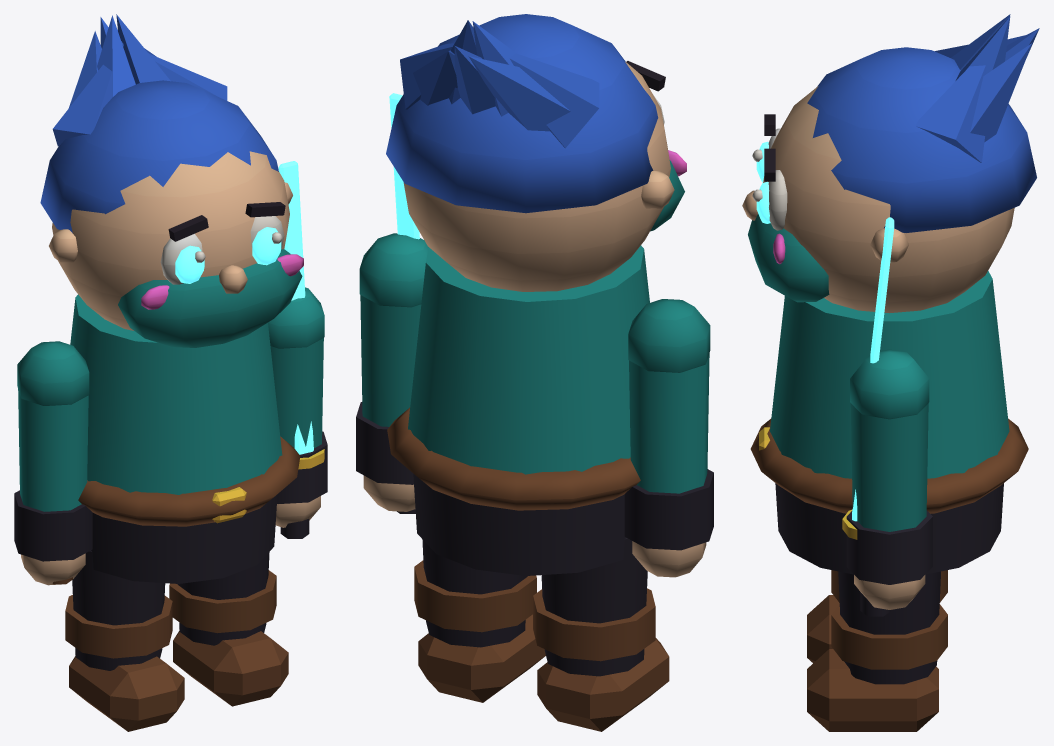
File: hero_zircon.glb
The picture shows the model from 3 angles, left to right: view 1: azimuth 30°, elevation 25°; view 2: azimuth 150°, elevation 25°; view 3: azimuth 270°, elevation 25°; orthographic projection. The views are drawn at different scales.
Visible parts, largest first — view 1: body_t0_palette, arml_t0_palette, legl_t0_palette, legr_t0_palette, armr_t0_palette, armr_t0_crystal, body_t0_crystal; view 2: body_t0_palette, arml_t0_palette, legl_t0_palette, legr_t0_palette, armr_t0_palette, armr_t0_crystal; view 3: body_t0_palette, armr_t0_palette, legr_t0_palette, legl_t0_palette, armr_t0_crystal, body_t0_crystal.
Boxes of the visible parts, box(x1,y1,x2,y2) form: body_t0_palette: box(40, 14, 303, 583); arml_t0_palette: box(14, 341, 92, 585); legl_t0_palette: box(65, 550, 184, 731); legr_t0_palette: box(169, 552, 288, 706); armr_t0_palette: box(268, 287, 327, 538); armr_t0_crystal: box(278, 161, 313, 454); body_t0_crystal: box(175, 227, 281, 283); body_t0_palette: box(386, 14, 686, 575); arml_t0_palette: box(624, 299, 713, 577); legl_t0_palette: box(533, 538, 669, 731); legr_t0_palette: box(414, 539, 545, 702); armr_t0_palette: box(356, 233, 428, 513); armr_t0_crystal: box(389, 93, 419, 239); body_t0_palette: box(742, 14, 1039, 574); armr_t0_palette: box(842, 349, 932, 616); legr_t0_palette: box(807, 571, 947, 731); legl_t0_palette: box(807, 570, 947, 662); armr_t0_crystal: box(852, 217, 894, 521); body_t0_crystal: box(756, 141, 770, 223).
Bounding box in the file's own units: 0.27 × 0.5391 × 0.2139.
